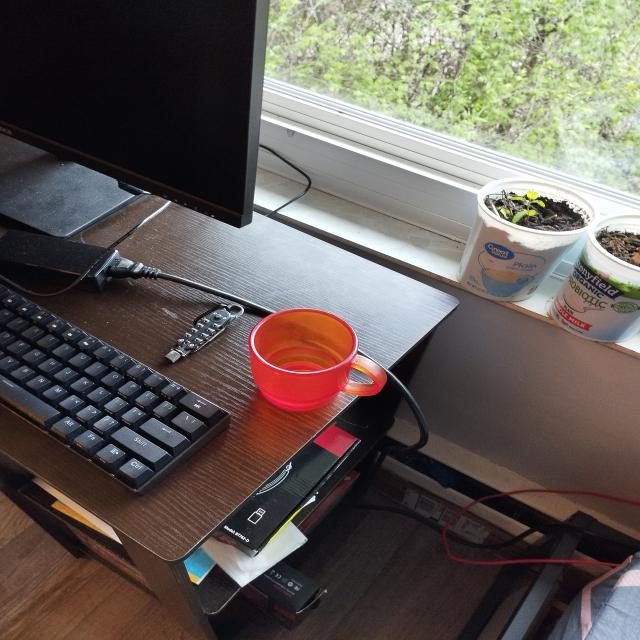Cup: (242, 296, 376, 424)
